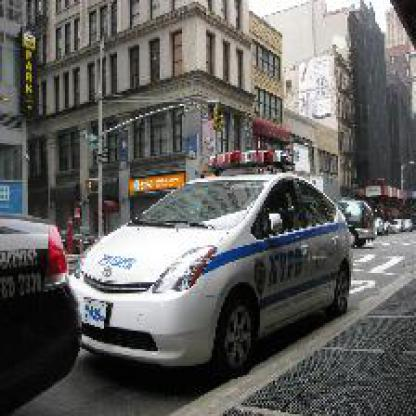emergency: (70, 137, 356, 390)
